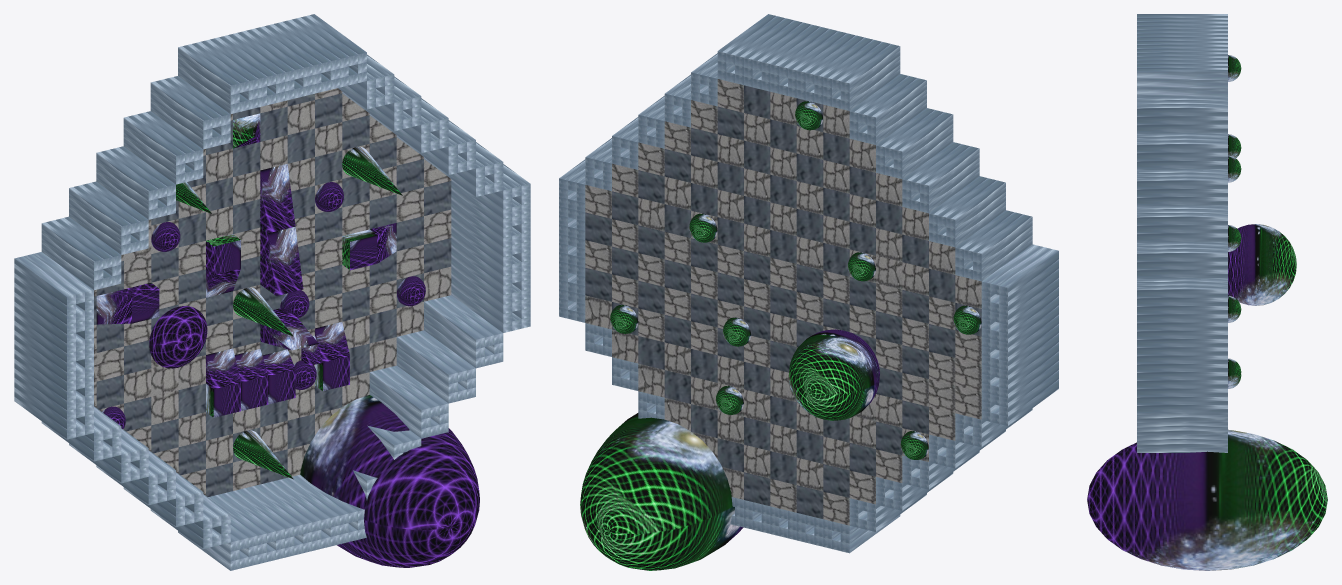
The model's file is dust3bhopv2.glb.
3 renders of one model, left to right at view 1: azimuth 30°, elevation 25°; view 2: azimuth 150°, elevation 25°; view 3: azimuth 270°, elevation 25°, orthographic. The views are drawn at different scales.
Parts seen in each view (by area): view 1: Sphere.126, Sphere.119, Cube.7644, Cube.7651, Cone.060, Cone.063, Cone.061, Cube.7655, Cube.7648, Cube.7652, Cube.7645, Cube.7106 (+95 smaller); view 2: Sphere.126, Sphere.119, Cube.7130, Cube.7146, Cube.7122, Cube.7138, Cube.7106, Cube.7114, Cube.7420, Cube.7575, Cube.7516, Cube.7581 (+147 smaller); view 3: Sphere.126, Sphere.119, Cube.7186, Cube.7194, Cube.7202, Cube.7210, Cube.7218, Cube.7226, Cube.7180, Cube.7174, Cube.7181, Cube.7187 (+55 smaller).
Boxes of the visible parts, left/top/right/bottom form: Sphere.126: left=300, top=395, right=479, bottom=567; Sphere.119: left=149, top=306, right=207, bottom=368; Cube.7644: left=260, top=164, right=295, bottom=233; Cube.7651: left=268, top=226, right=303, bottom=295; Cone.060: left=233, top=430, right=293, bottom=479; Cone.063: left=233, top=287, right=293, bottom=336; Cone.061: left=342, top=146, right=402, bottom=195; Cube.7655: left=342, top=229, right=377, bottom=270; Cube.7648: left=206, top=234, right=240, bottom=274; Cube.7652: left=96, top=289, right=131, bottom=324; Cube.7645: left=206, top=348, right=240, bottom=388; Cube.7106: left=41, top=221, right=103, bottom=270; Sphere.126: left=580, top=413, right=743, bottom=570; Sphere.119: left=788, top=329, right=879, bottom=420; Cube.7130: left=893, top=112, right=953, bottom=160; Cube.7146: left=840, top=44, right=900, bottom=92; Cube.7122: left=920, top=146, right=979, bottom=194; Cube.7138: left=867, top=78, right=926, bottom=126; Cube.7106: left=973, top=214, right=1032, bottom=262; Cube.7114: left=946, top=180, right=1005, bottom=228; Cube.7420: left=999, top=248, right=1058, bottom=296; Cube.7575: left=796, top=153, right=823, bottom=187; Cube.7516: left=796, top=292, right=823, bottom=325; Cube.7581: left=796, top=209, right=823, bottom=242; Sphere.126: left=1087, top=429, right=1327, bottom=570; Sphere.119: left=1228, top=224, right=1296, bottom=305; Cube.7186: left=1137, top=104, right=1227, bottom=116; Cube.7194: left=1137, top=140, right=1227, bottom=152; Cube.7202: left=1137, top=176, right=1227, bottom=188; Cube.7210: left=1137, top=213, right=1227, bottom=225; Cube.7218: left=1137, top=249, right=1227, bottom=261; Cube.7226: left=1137, top=285, right=1227, bottom=297; Cube.7180: left=1137, top=68, right=1227, bottom=79; Cube.7174: left=1137, top=88, right=1227, bottom=96; Cube.7181: left=1137, top=80, right=1227, bottom=88; Cube.7187: left=1137, top=116, right=1227, bottom=124.
Size of the model in its own units: 1020 by 1138 by 529.
4 materials, 4 textured.
